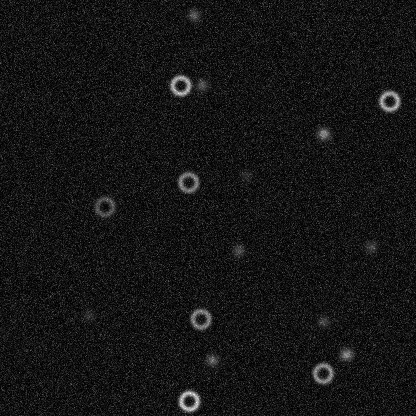Ring: (176, 170, 200, 194), (188, 306, 212, 330), (310, 361, 334, 385), (176, 388, 200, 412), (92, 194, 116, 218), (377, 88, 401, 112), (168, 73, 192, 97)
Spot: (204, 352, 220, 368), (338, 346, 354, 362), (80, 306, 96, 322), (362, 238, 378, 254), (237, 167, 253, 183), (185, 7, 201, 23), (315, 125, 331, 141), (193, 77, 209, 93), (315, 313, 331, 329), (230, 242, 246, 258)
